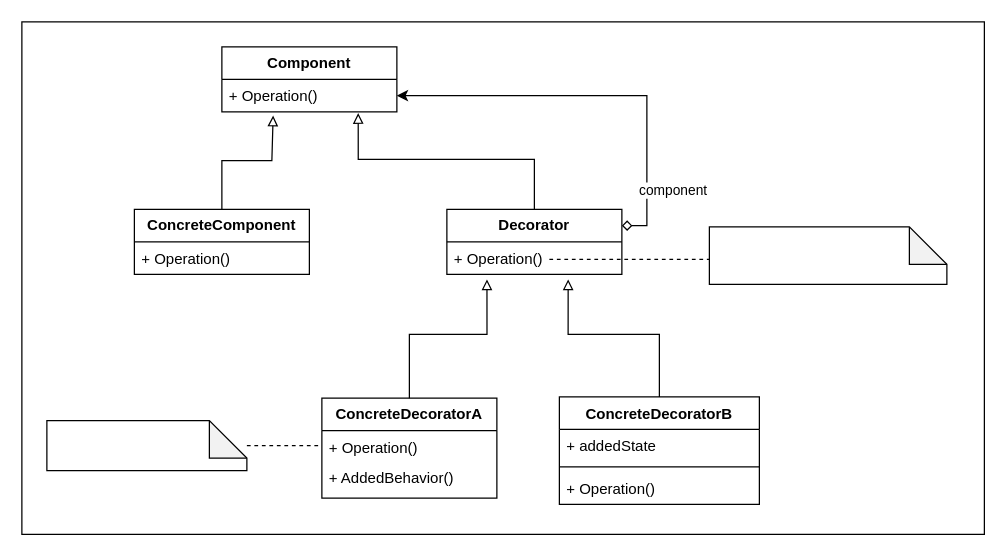
The diagram is 1006 pixels wide and 556 high, and some of its shapes have lost their labels. The centre of each missing label's shape, as x and y in pixels:
"component.Operation()" goes at pixel 827 255.
"Operation(); AddedBehavior();" goes at pixel 146 445.
